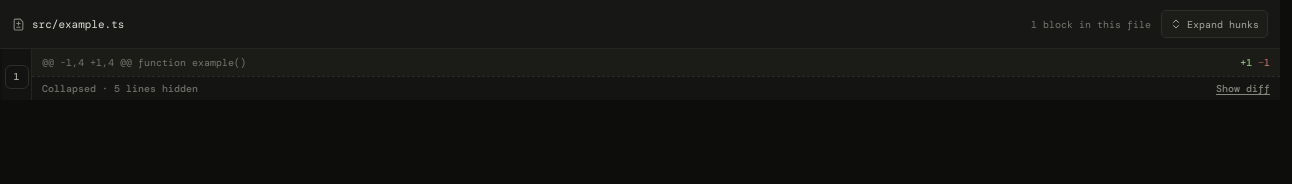
Test: review file diff pane permalinks and folding › folds every unselected block when the file is collapsed, and opens one by hand
Click the button "Collapsed · 5 lines hidden Show diff" at (69, 88), box [32,76,1280,100]
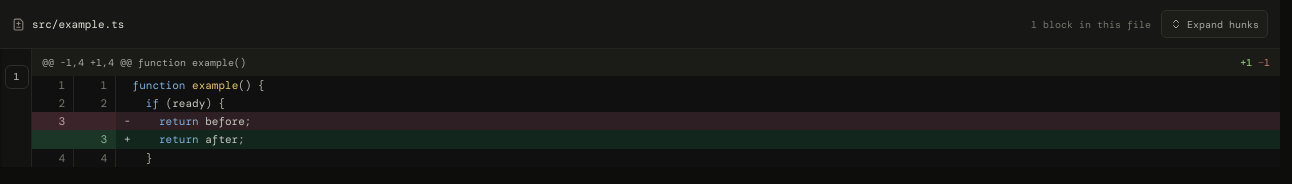
expect the element with class "diff-line" showing "1 1 function example() {" is shown: met, box [32,76,265,94]
